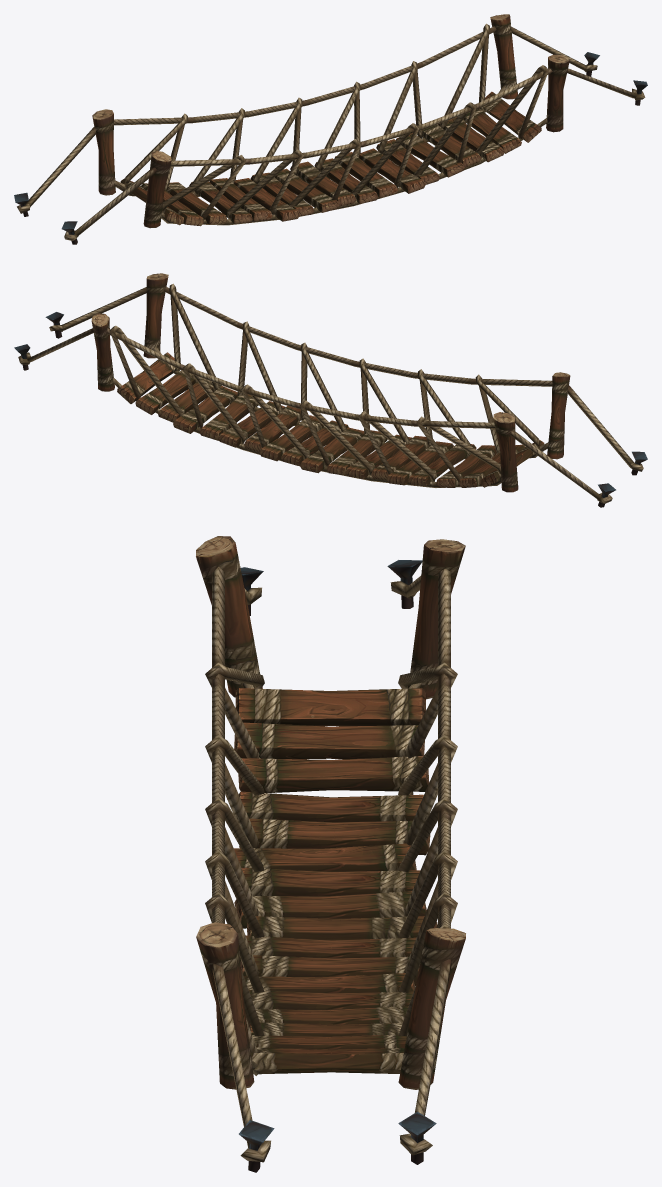
Rendered from rope_bridge_example_04.fbx.
3 views of the same model, one above another, from view 1: azimuth 30°, elevation 25°; view 2: azimuth 150°, elevation 25°; view 3: azimuth 270°, elevation 25° (orthographic). The views are drawn at different scales.
Parts seen in each view (by area): view 1: rope_bridge_example_04; view 2: rope_bridge_example_04; view 3: rope_bridge_example_04.
Part boxes in pixels (box(x1,y1,x2,y2)): rope_bridge_example_04: box(14, 14, 647, 244); rope_bridge_example_04: box(14, 273, 647, 507); rope_bridge_example_04: box(196, 536, 465, 1172).
Bounding box in the file's own units: 952 × 166 × 187.
